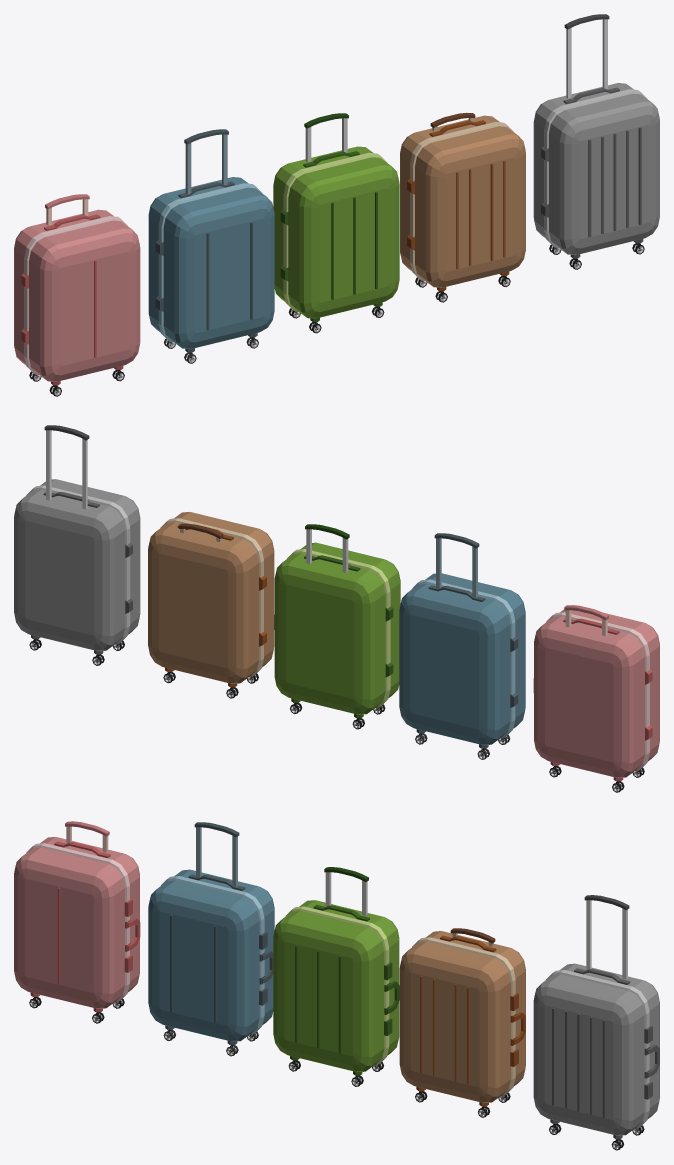
The model's file is Suitcase fbx.fbx.
3 renders of one model, top to bottom at view 1: azimuth 30°, elevation 25°; view 2: azimuth 150°, elevation 25°; view 3: azimuth 330°, elevation 25°, orthographic.
Parts seen in each view (by area): view 1: Koper 5, Koper 4, Koper 3, Koper 2, Koper 1; view 2: Koper 5, Koper 4, Koper 3, Koper 1, Koper 2; view 3: Koper 5, Koper 4, Koper 3, Koper 2, Koper 1.
Boxes of the visible parts, x1,y1,x2,y2 form: Koper 5: (533, 14, 659, 269); Koper 4: (148, 129, 274, 363); Koper 3: (273, 113, 399, 333); Koper 2: (14, 194, 140, 396); Koper 1: (400, 112, 525, 302); Koper 5: (14, 425, 140, 665); Koper 4: (399, 533, 525, 759); Koper 3: (274, 524, 400, 729); Koper 1: (148, 512, 274, 698); Koper 2: (533, 605, 659, 792); Koper 5: (533, 895, 659, 1150); Koper 4: (148, 822, 274, 1056); Koper 3: (273, 867, 399, 1086); Koper 2: (14, 821, 140, 1023); Koper 1: (399, 928, 525, 1117).
Size of the model in its own units: 375 by 130 by 37.55.
